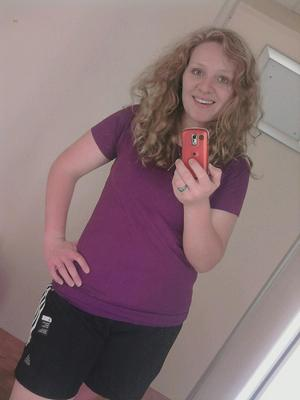person: (10, 29, 258, 398)
